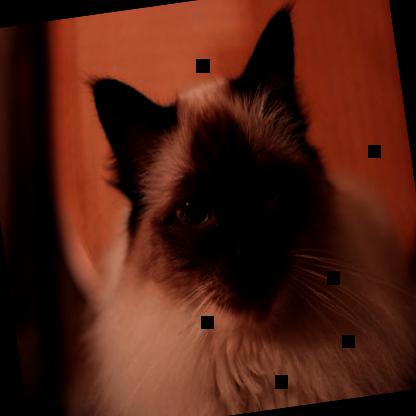cat: (49, 0, 415, 416)
